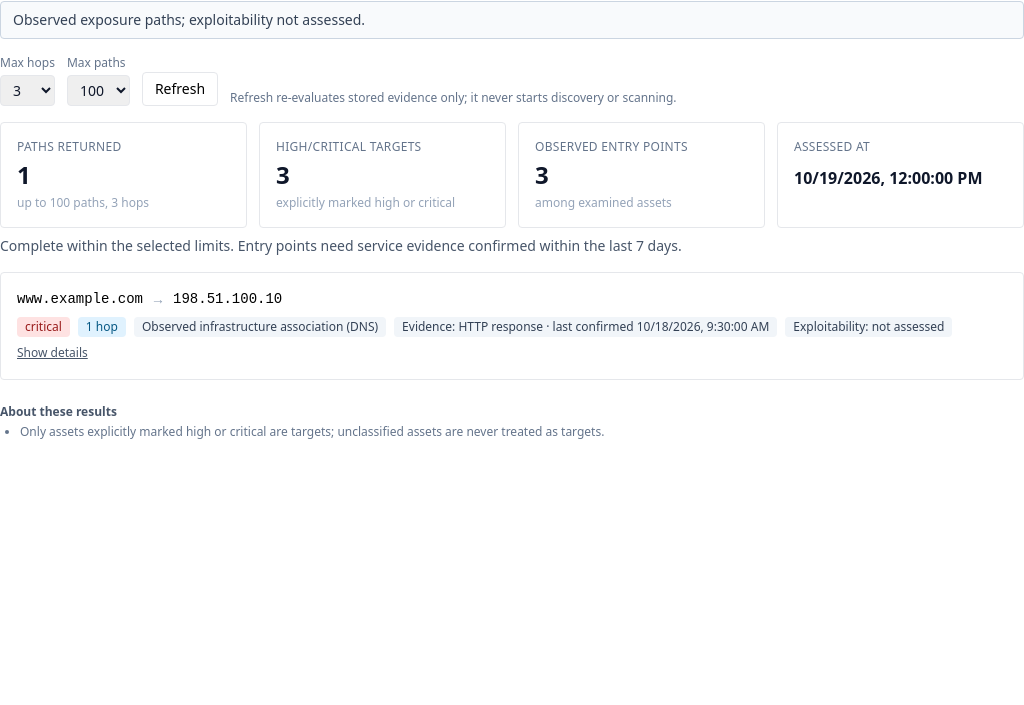
Test: ExposurePathsPage › renders a one-hop observed DNS path with its DNS evidence
The image size is (1024, 705).
Expected: the text "1 hop" is shown, [78, 317, 126, 337]
Expected: the text "Observed infrastructure association (DNS)" is shown, [134, 317, 386, 337]
Click the button "Show details".
click(52, 353)  # box [17, 345, 88, 361]
(page scrolled)
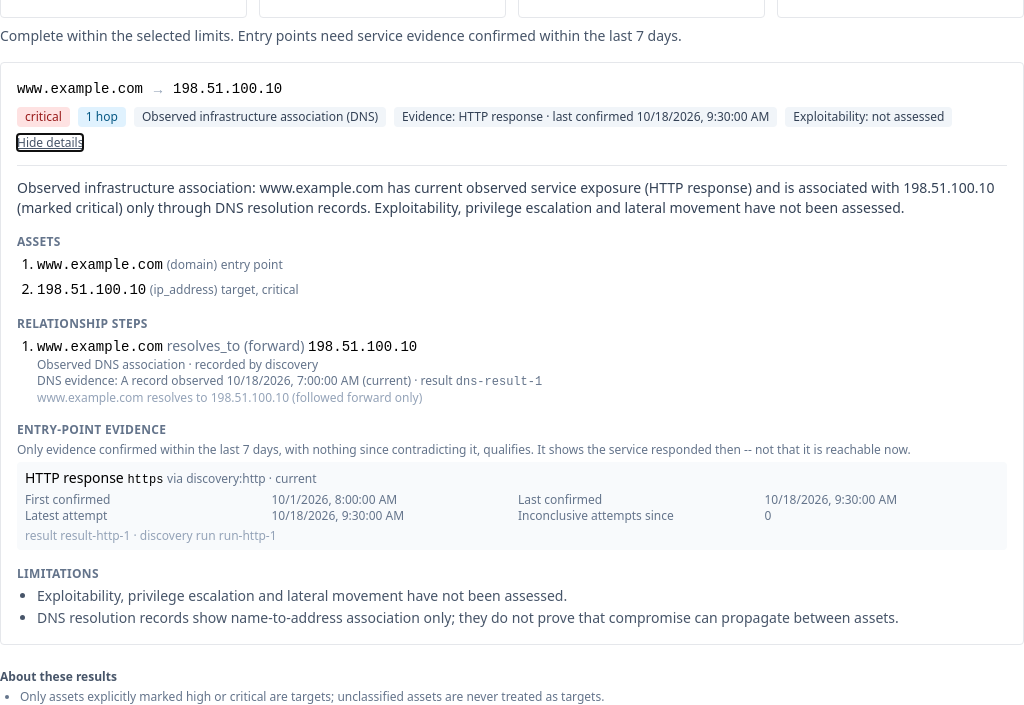
Result: the text "resolves_to (forward)" is shown at [167, 336, 304, 355]
Result: the text "Observed DNS association · recorded by discovery" is shown at [37, 356, 318, 373]
Result: the text "DNS evidence: A record observed" shows "dns-result-1" at [456, 375, 542, 389]
